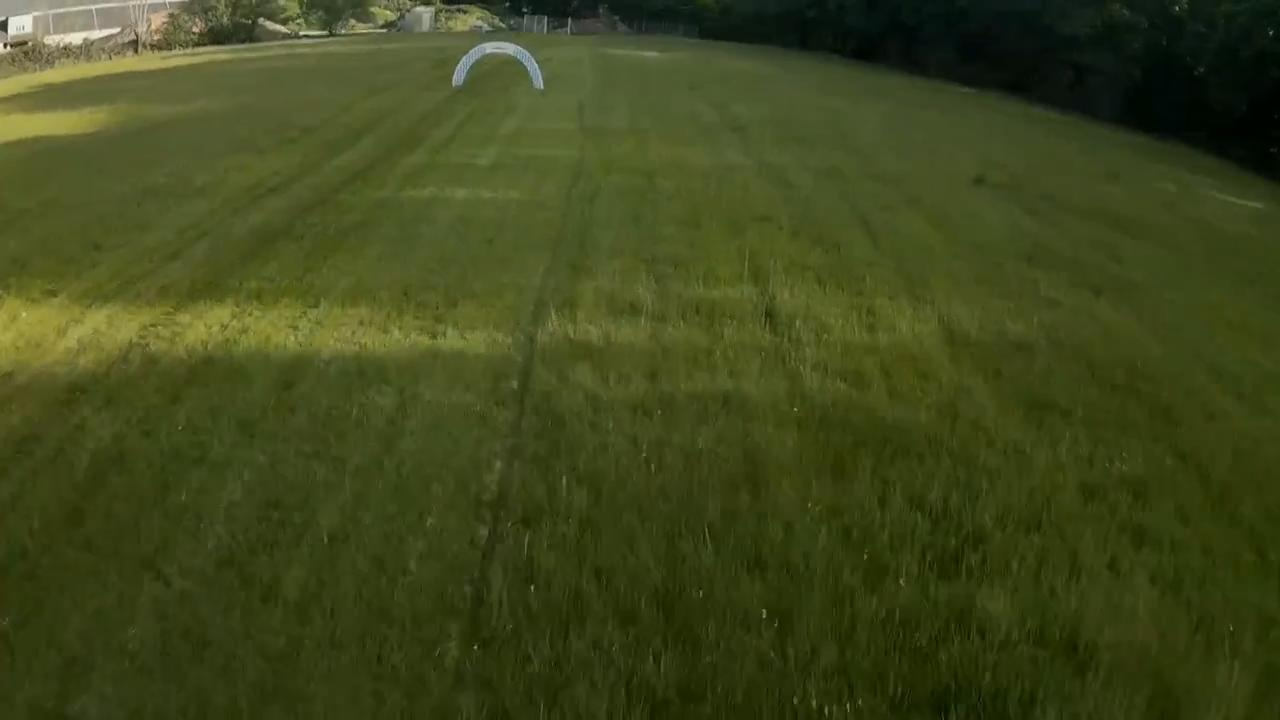gate: (453, 42, 547, 90)
